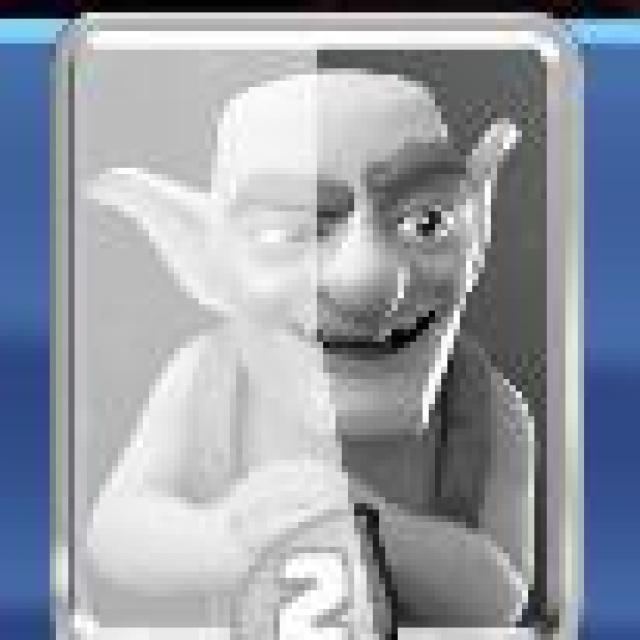Goblins: (52, 13, 584, 640)
